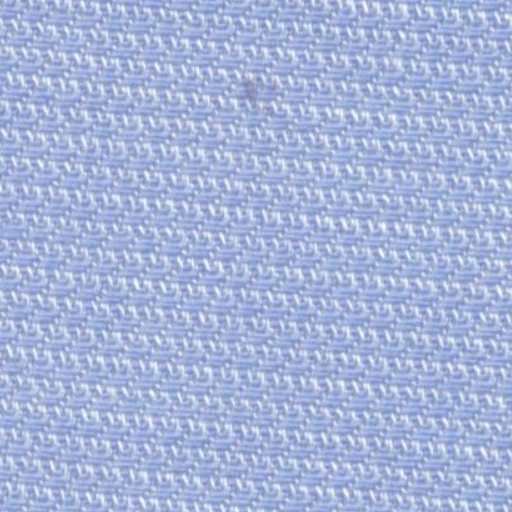WuZi: (220, 67, 277, 114)
